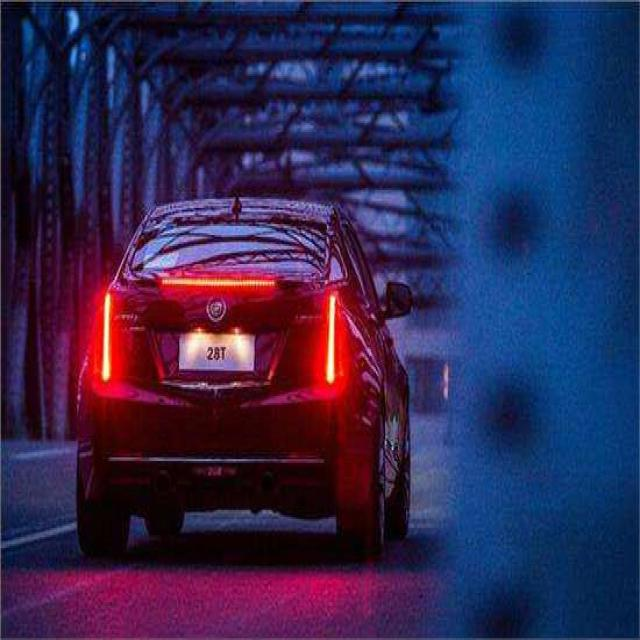other: (87, 273, 128, 389), (324, 274, 346, 394)
